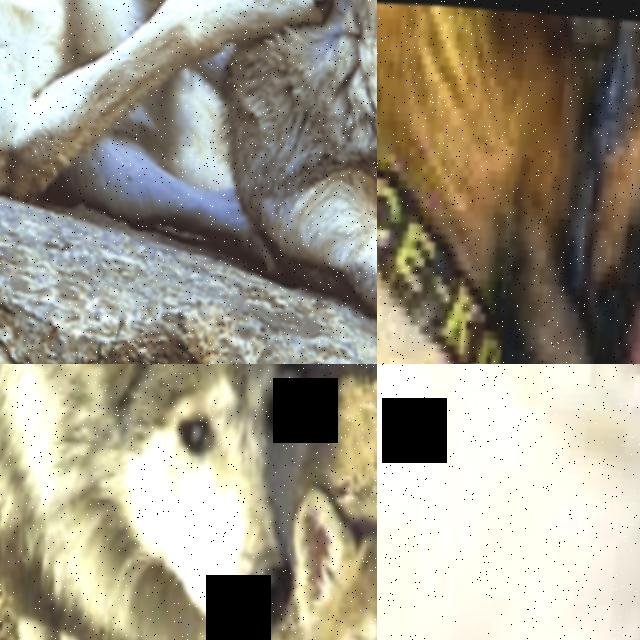dog: (377, 0, 640, 364), (377, 364, 640, 640)
wolf: (0, 0, 377, 344), (0, 364, 333, 640), (169, 0, 377, 364), (242, 464, 377, 640)
